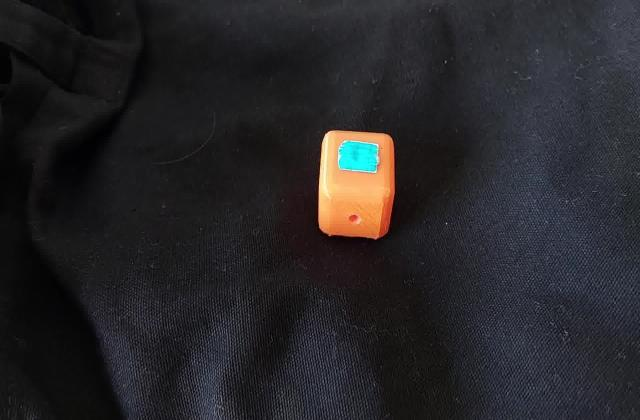blue: (347, 146, 375, 167)
sticker: (316, 126, 399, 243)
